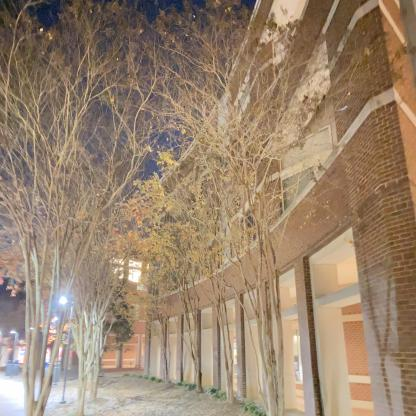eb2: (87, 47, 413, 366)
